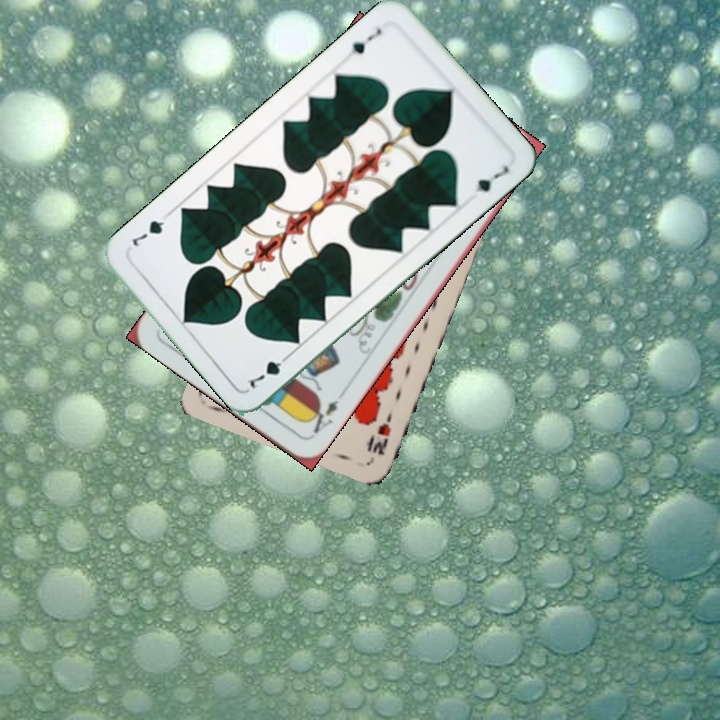EA: (303, 388, 347, 437)
G7: (243, 349, 294, 391), (347, 24, 385, 57)
H10: (365, 408, 395, 458)
